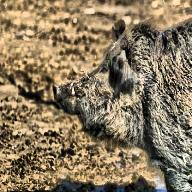boar: (49, 13, 192, 180)
